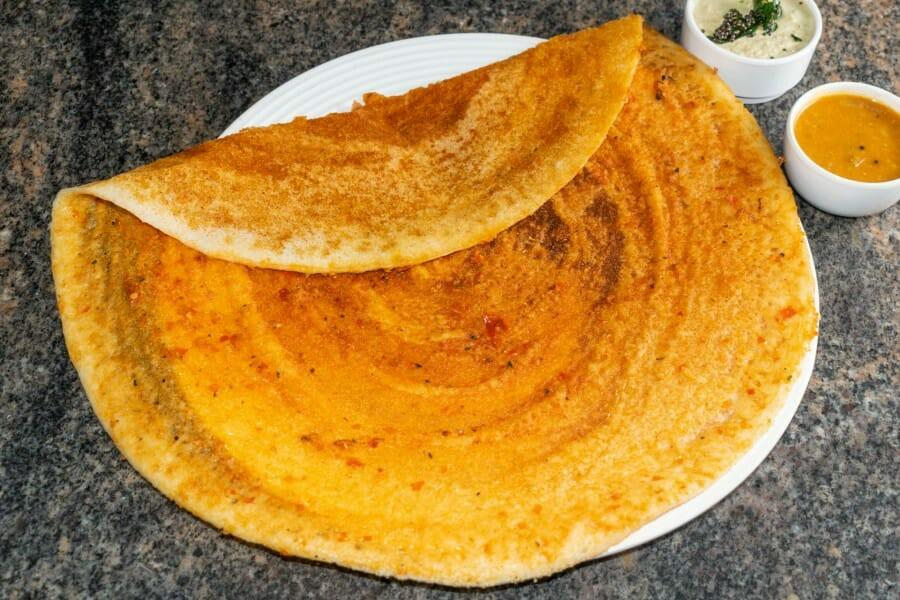CoconutChutney: (693, 0, 813, 58)
Dosa: (51, 14, 818, 586)
